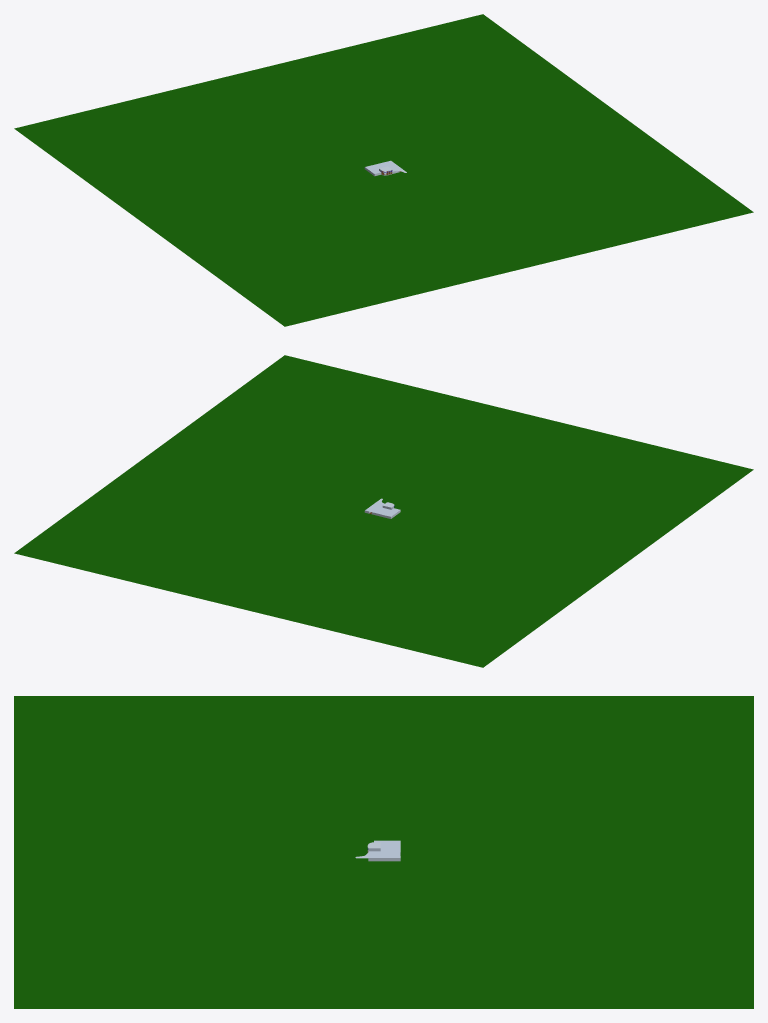
Rendered from bank.glb.
3 views of the same model, one above another, from view 1: azimuth 30°, elevation 25°; view 2: azimuth 150°, elevation 25°; view 3: azimuth 270°, elevation 25° (orthographic). The views are drawn at different scales.
Parts seen in each view (by area): view 1: building; view 2: building; view 3: building.
Part boxes in pixels (box(x1,y1,x2,y2)): building: box(14, 14, 753, 326); building: box(14, 355, 753, 667); building: box(14, 696, 753, 1008).
Bounding box in the file's own units: 897 × 8.1 × 897.
6 materials, 1 textured.
